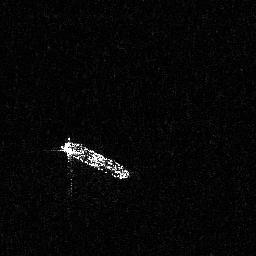ship: (44, 135, 131, 197)
